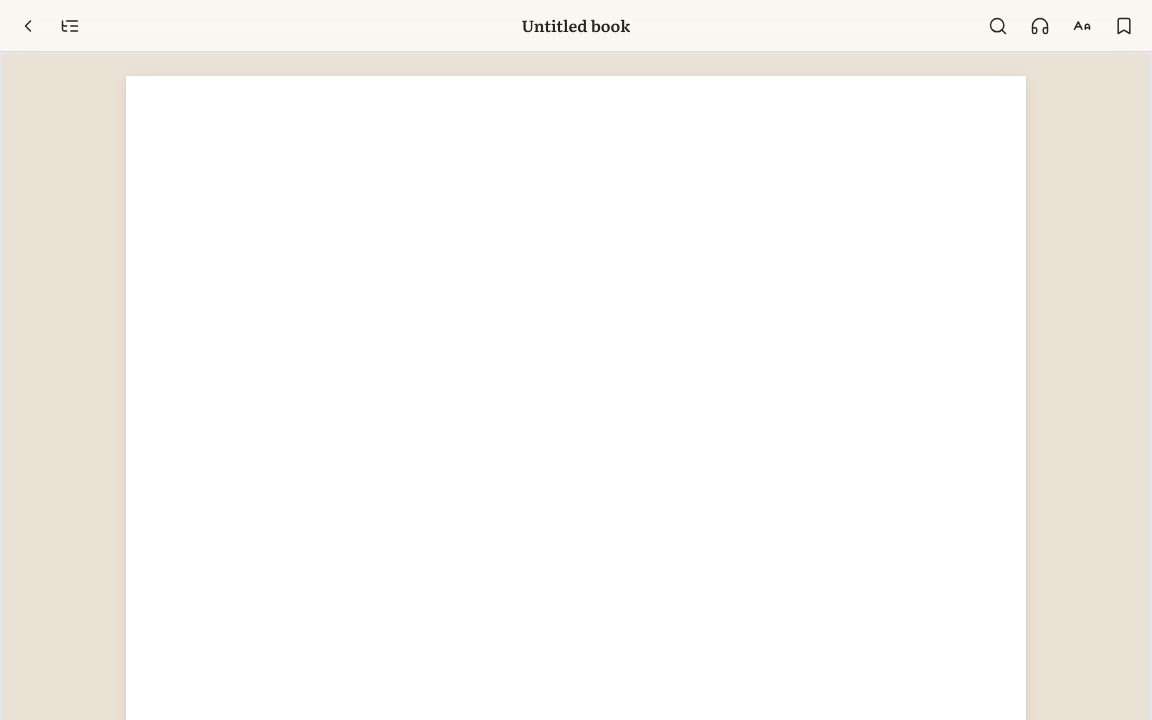
Test: ReaderView contents › reads the outline once per book, and not before the first page is drawn unless Contents opens
Click the button named "Contents": (70, 26) [50,6,90,46]
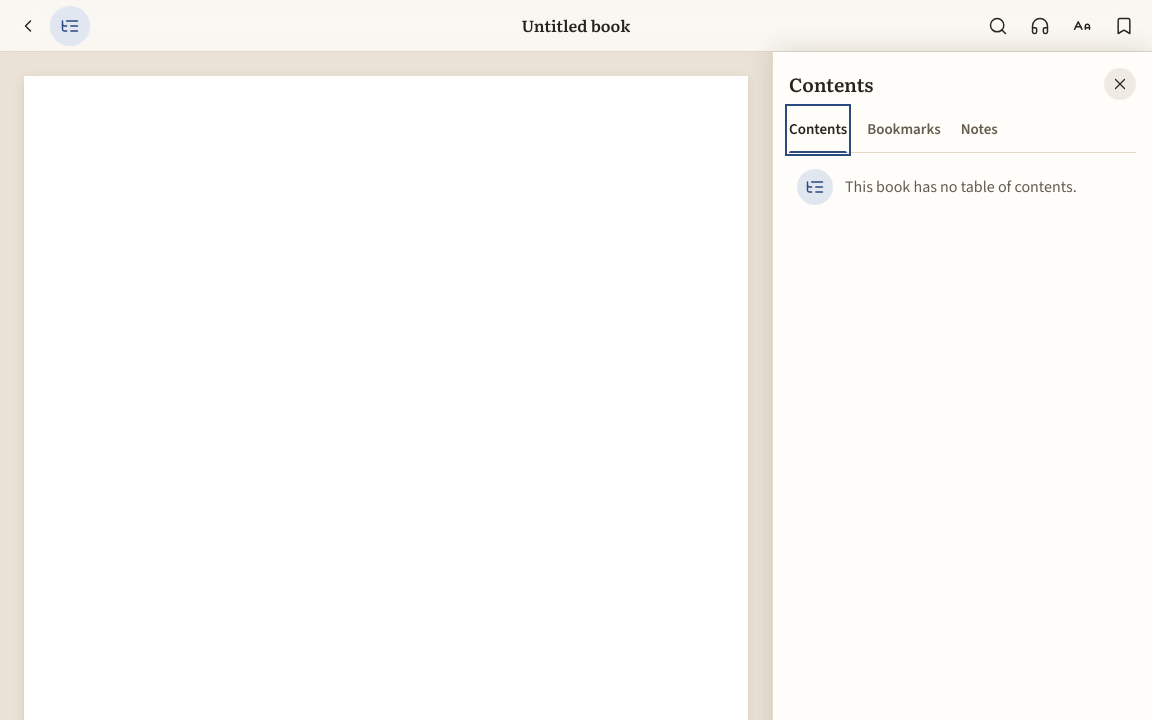
expect the text "This book has no table of contents." is shown: met, box [845,175,1077,199]
Click the button named "Contents": (70, 26) [50,6,90,46]
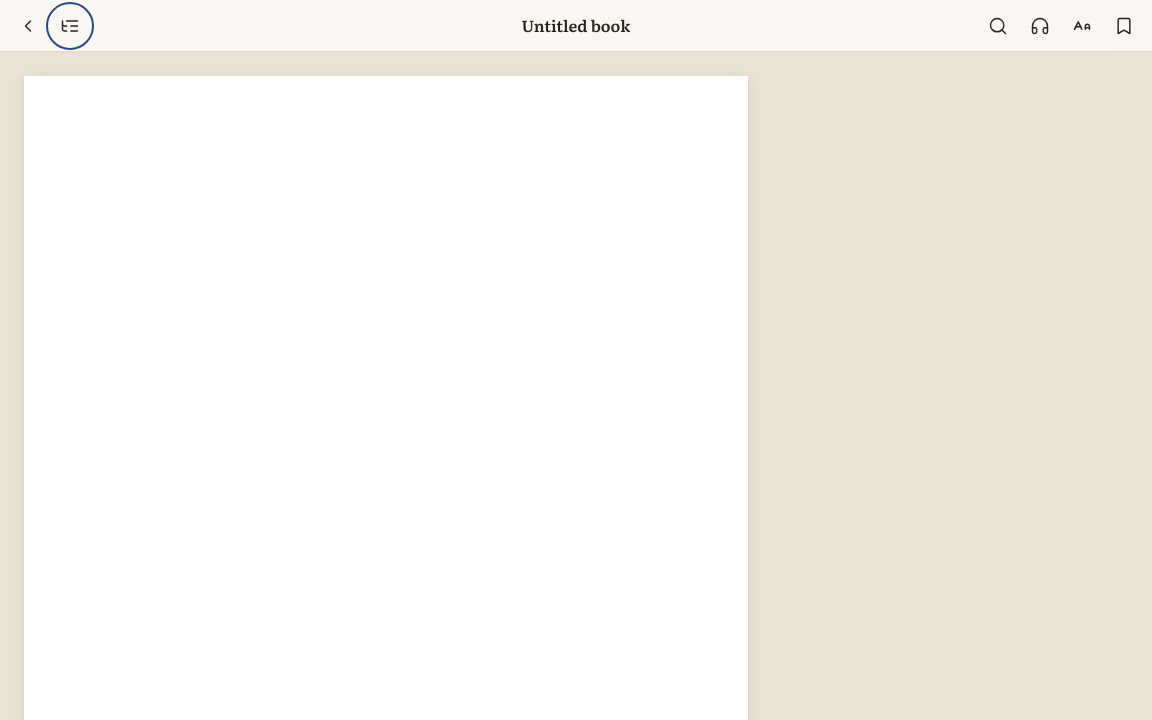
Click the button named "Contents": (70, 26) [50,6,90,46]
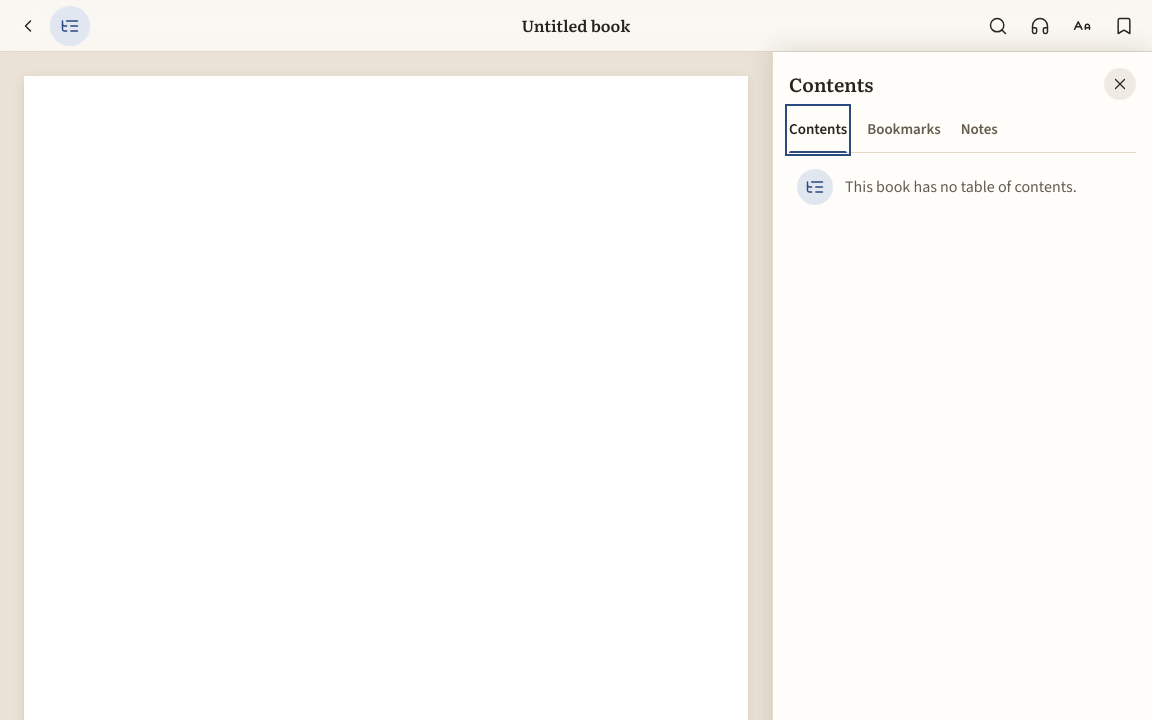
expect the text "This book has no table of contents." is shown: met, box [845,175,1077,199]
